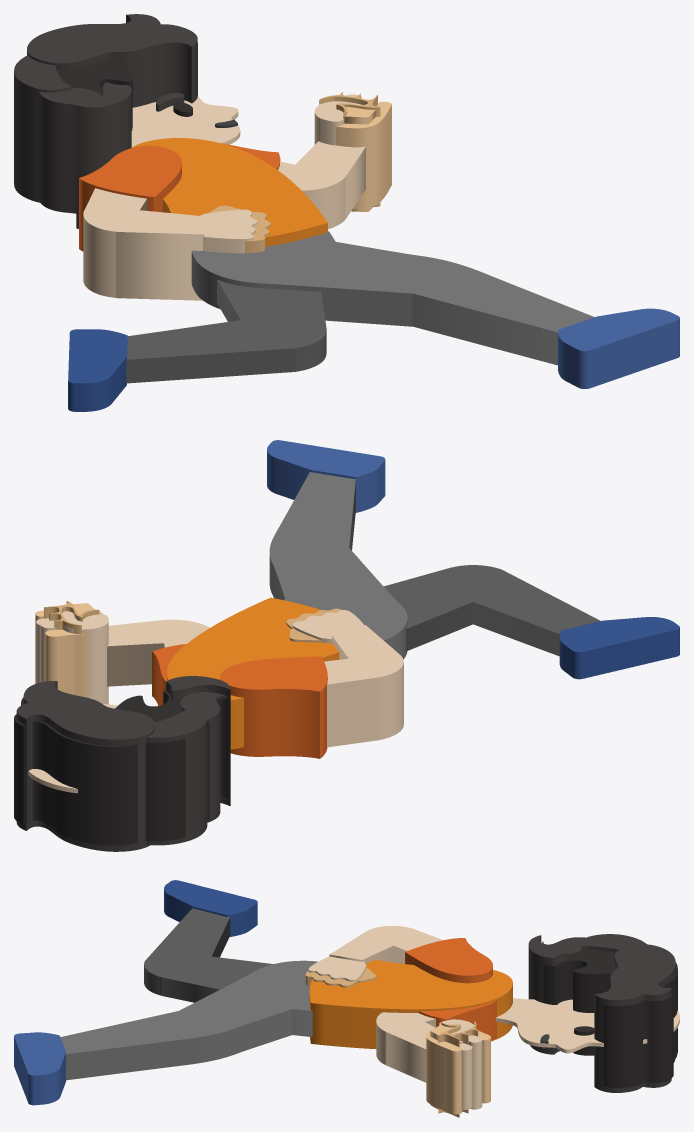
The model's file is emoji_u1f3c3_1f3fb_200d_27a1.glb.
3 views of the same model, one above another, from view 1: azimuth 30°, elevation 25°; view 2: azimuth 150°, elevation 25°; view 3: azimuth 270°, elevation 25° (orthographic). The views are drawn at different scales.
Visible parts, largest first — view 1: emoji_u1f3c3_1f3fb_200d_27a1; view 2: emoji_u1f3c3_1f3fb_200d_27a1; view 3: emoji_u1f3c3_1f3fb_200d_27a1.
Part boxes in pixels (<box>): emoji_u1f3c3_1f3fb_200d_27a1: <box>14,14,679,411</box>; emoji_u1f3c3_1f3fb_200d_27a1: <box>14,440,679,851</box>; emoji_u1f3c3_1f3fb_200d_27a1: <box>14,880,679,1117</box>.
Size of the model in its own units: 0.023 by 0.0052 by 0.0325.
